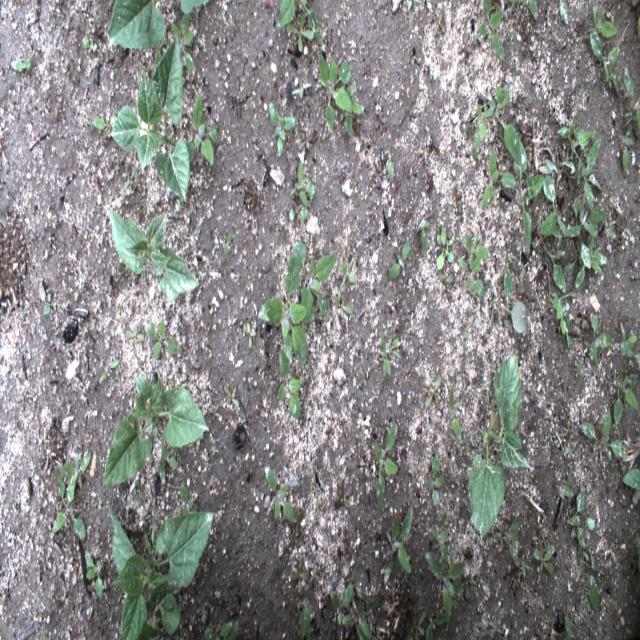crop: (110, 502, 217, 640), (108, 33, 191, 205), (102, 373, 214, 488), (470, 355, 533, 538), (110, 209, 205, 302), (106, 0, 167, 50)
weed: (256, 240, 337, 373), (424, 508, 469, 624), (52, 448, 96, 541), (322, 54, 366, 139), (488, 76, 529, 164), (330, 576, 382, 636), (570, 195, 608, 272), (582, 403, 626, 468), (492, 256, 526, 336), (371, 420, 401, 510), (384, 499, 416, 582), (190, 86, 219, 176), (514, 162, 541, 258), (568, 140, 603, 213), (536, 170, 569, 246), (265, 462, 303, 527), (591, 24, 621, 106), (280, 0, 322, 58), (477, 0, 508, 68), (486, 144, 516, 213), (580, 556, 612, 618), (569, 488, 600, 550), (276, 360, 306, 423), (457, 236, 487, 299), (145, 316, 184, 362), (288, 154, 314, 222), (269, 100, 298, 154), (467, 100, 491, 164), (557, 120, 594, 160), (542, 246, 569, 298), (586, 316, 614, 365), (171, 23, 197, 75), (614, 374, 638, 430), (551, 292, 573, 352), (504, 516, 527, 572), (152, 447, 180, 492), (376, 320, 398, 376), (624, 59, 638, 142), (424, 449, 444, 507), (446, 384, 464, 448), (385, 242, 414, 281), (413, 603, 446, 637), (84, 554, 105, 603), (334, 472, 356, 514), (590, 234, 612, 276), (10, 44, 37, 78), (203, 614, 241, 638), (592, 7, 620, 39), (435, 224, 454, 270), (423, 376, 443, 419), (535, 542, 557, 580), (242, 316, 260, 358), (328, 289, 355, 316), (618, 319, 638, 355), (618, 134, 633, 182), (98, 357, 119, 388), (341, 258, 362, 289), (417, 214, 434, 252), (455, 30, 477, 58), (39, 280, 54, 319), (619, 462, 638, 492), (125, 323, 145, 351), (422, 162, 436, 202), (295, 75, 313, 106), (105, 266, 117, 312), (298, 123, 316, 153), (178, 3, 211, 19), (440, 269, 457, 299), (75, 36, 96, 58), (224, 223, 236, 261), (460, 319, 477, 345), (518, 2, 538, 24), (452, 188, 467, 216), (296, 607, 311, 634), (223, 387, 239, 412), (91, 112, 107, 135), (384, 145, 394, 177), (573, 263, 585, 289), (433, 12, 445, 37), (560, 1, 570, 26), (48, 224, 55, 247)
